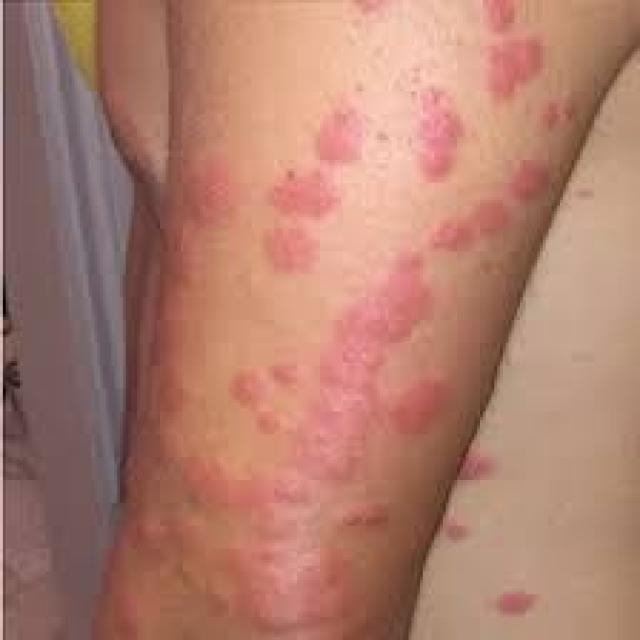kan emici bocekler: (247, 270, 422, 626), (112, 458, 246, 631), (250, 100, 378, 275), (430, 159, 556, 262), (137, 311, 209, 443), (173, 166, 248, 290), (479, 5, 546, 96), (238, 360, 300, 429), (416, 103, 473, 178)
